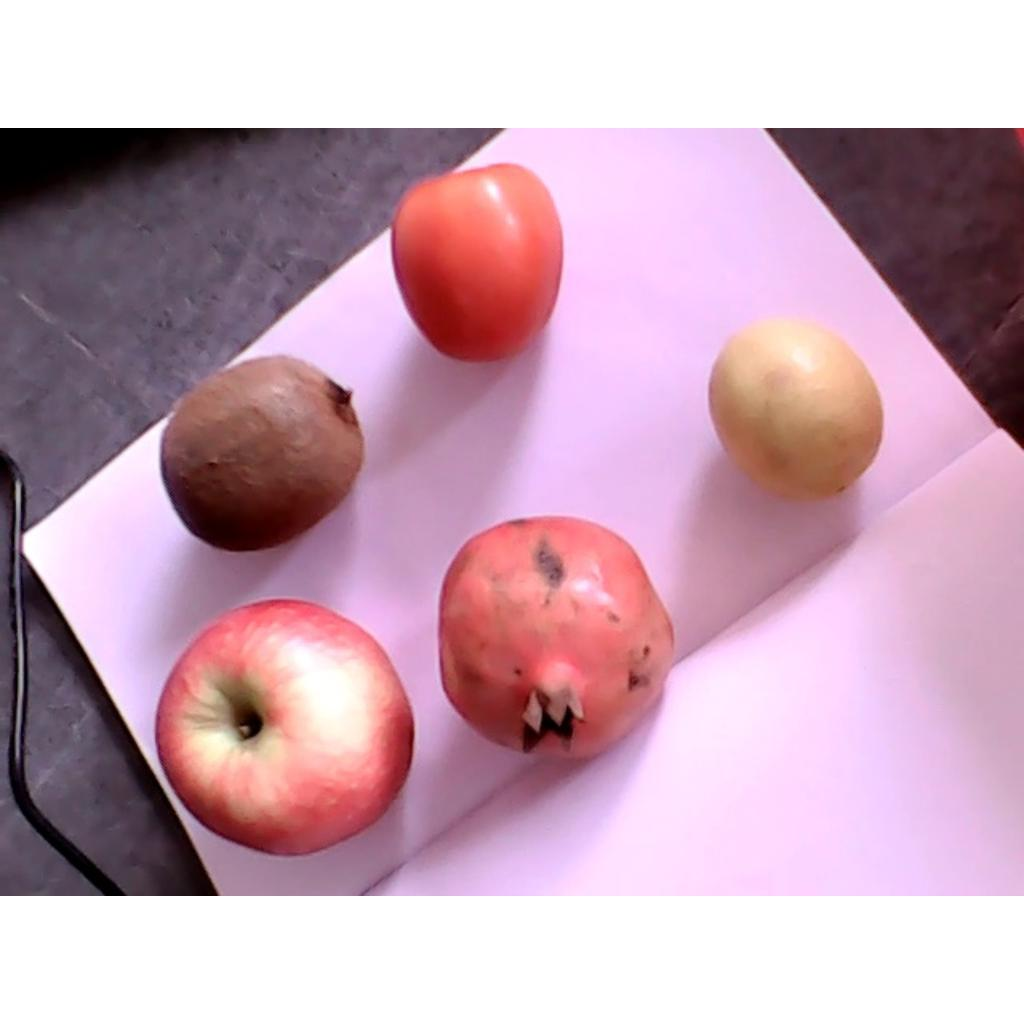apple: (155, 599, 414, 856)
kiwi: (162, 356, 365, 553)
lemon: (709, 321, 880, 500)
pomegranate: (438, 516, 674, 758)
tomato: (393, 162, 564, 362)
